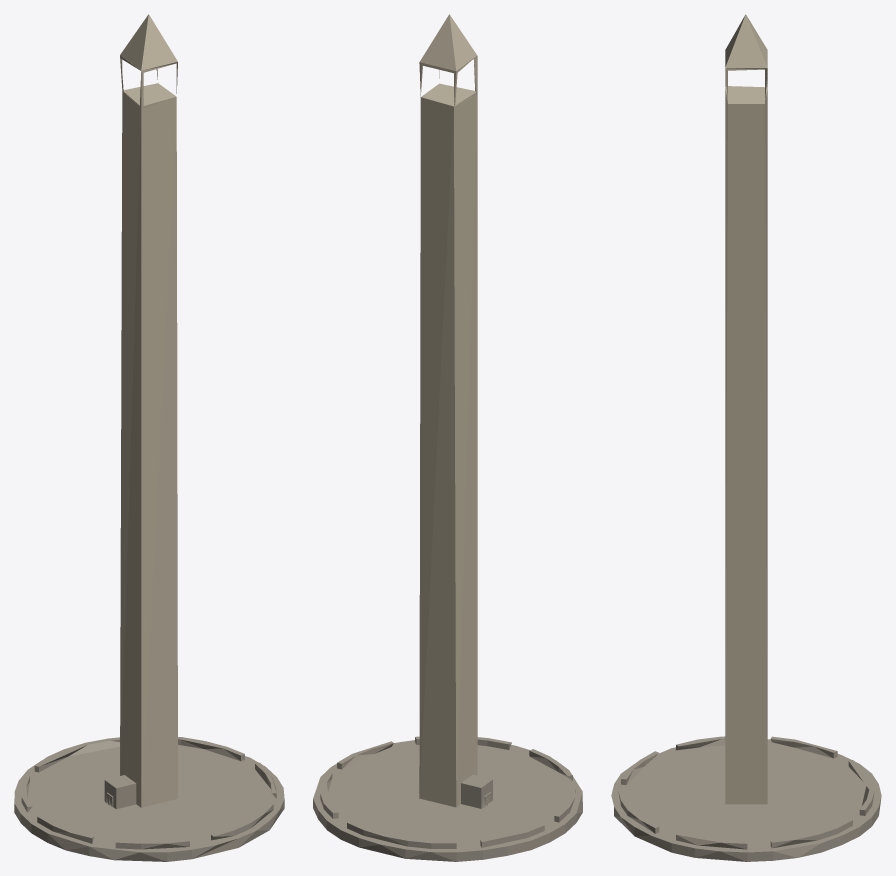
3 renders of one model, left to right at view 1: azimuth 30°, elevation 25°; view 2: azimuth 150°, elevation 25°; view 3: azimuth 270°, elevation 25°, orthographic.
Parts seen in each view (by area): view 1: defaultMaterial; view 2: defaultMaterial; view 3: defaultMaterial.
Boxes of the visible parts, x1,y1,x2,y2 form: defaultMaterial: [14, 14, 284, 861]; defaultMaterial: [313, 14, 582, 861]; defaultMaterial: [611, 14, 881, 861].
Bounding box in the file's own units: 1287 × 4153 × 1287.
